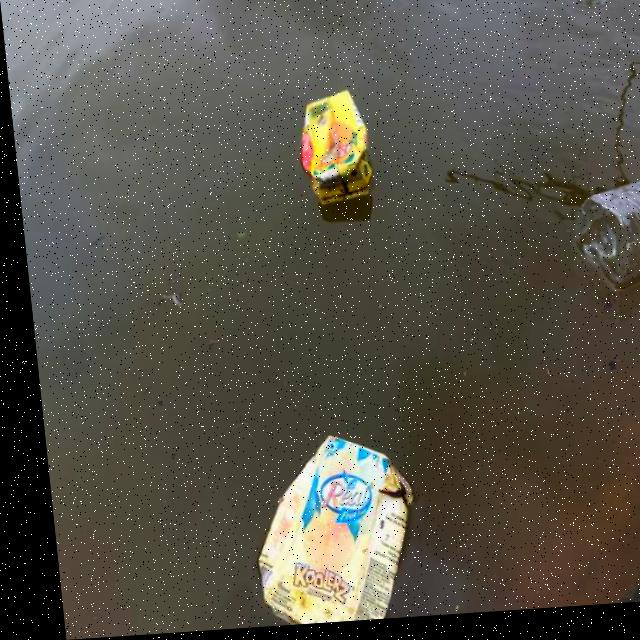paper: (216, 432, 435, 631), (278, 86, 394, 219)
waterbottle: (547, 142, 640, 320)
